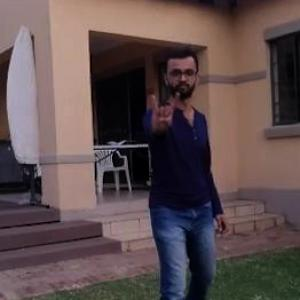takeoff-hand: (140, 84, 179, 135)
